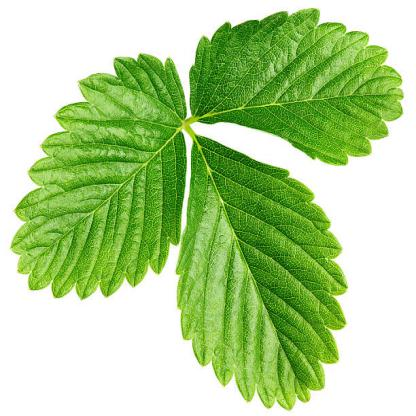strawberry leaf: (173, 130, 349, 415), (7, 48, 188, 302), (190, 2, 399, 135)
